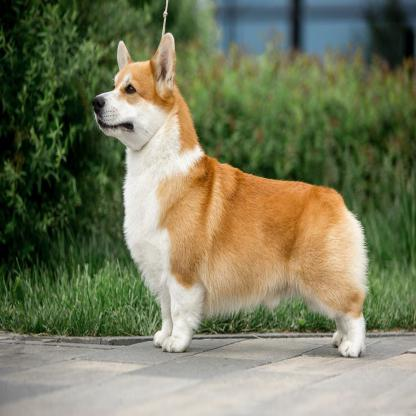Korgi: (87, 36, 374, 362)
